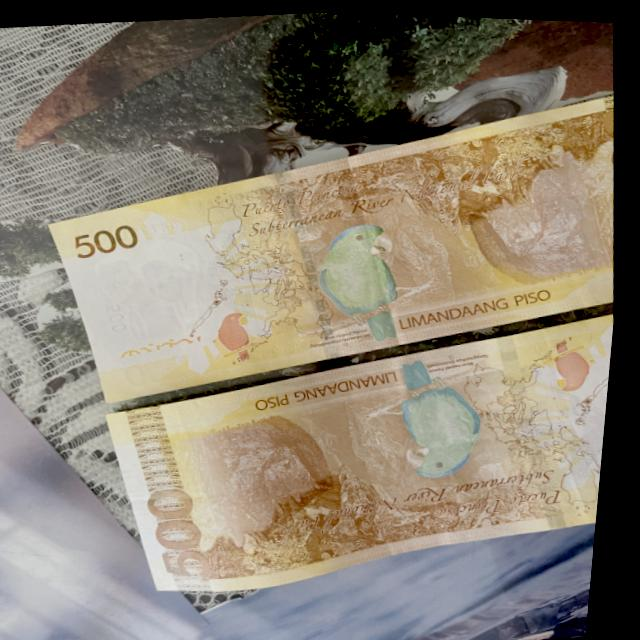500_big_parrot: (301, 202, 434, 345), (370, 345, 507, 481)
500_parrot_watermark: (533, 334, 607, 391), (206, 305, 274, 364)
value_watermark: (98, 296, 138, 339)
watermark: (86, 235, 215, 359)
